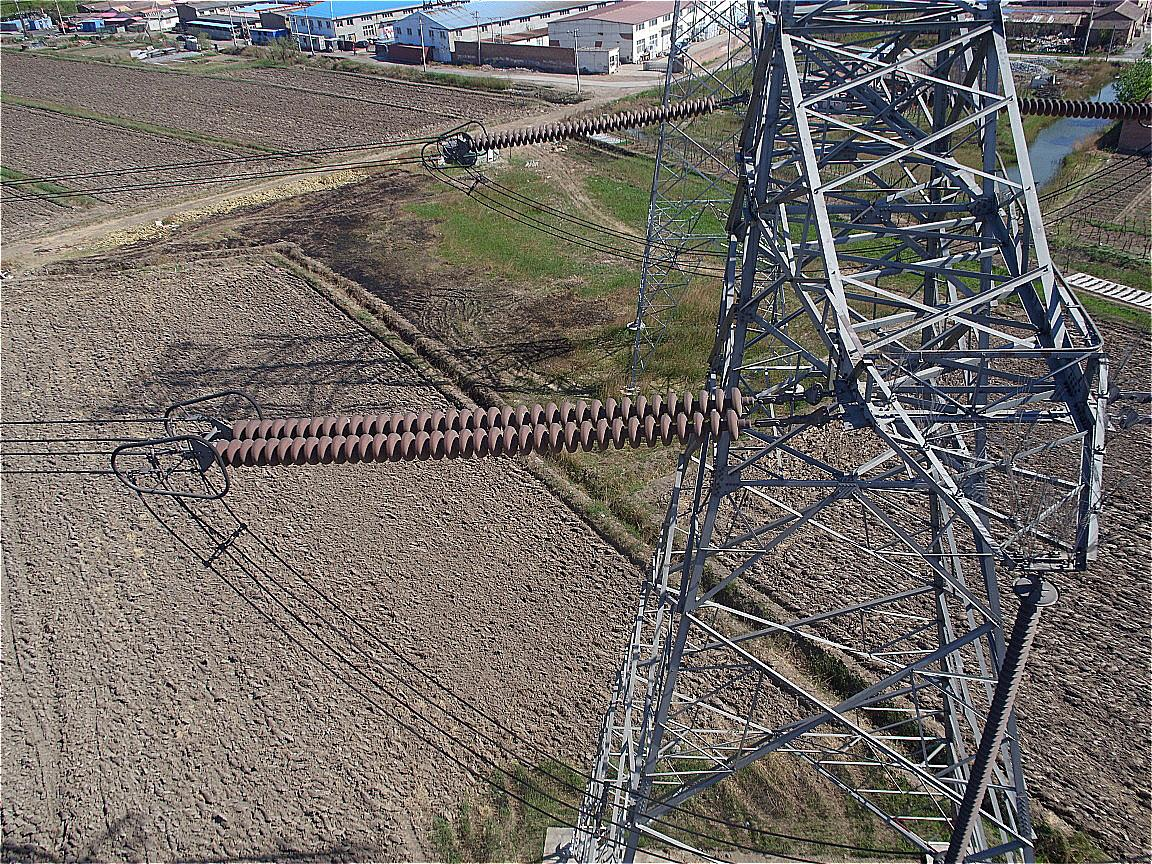insultor1: (215, 385, 744, 467), (472, 92, 714, 155)
